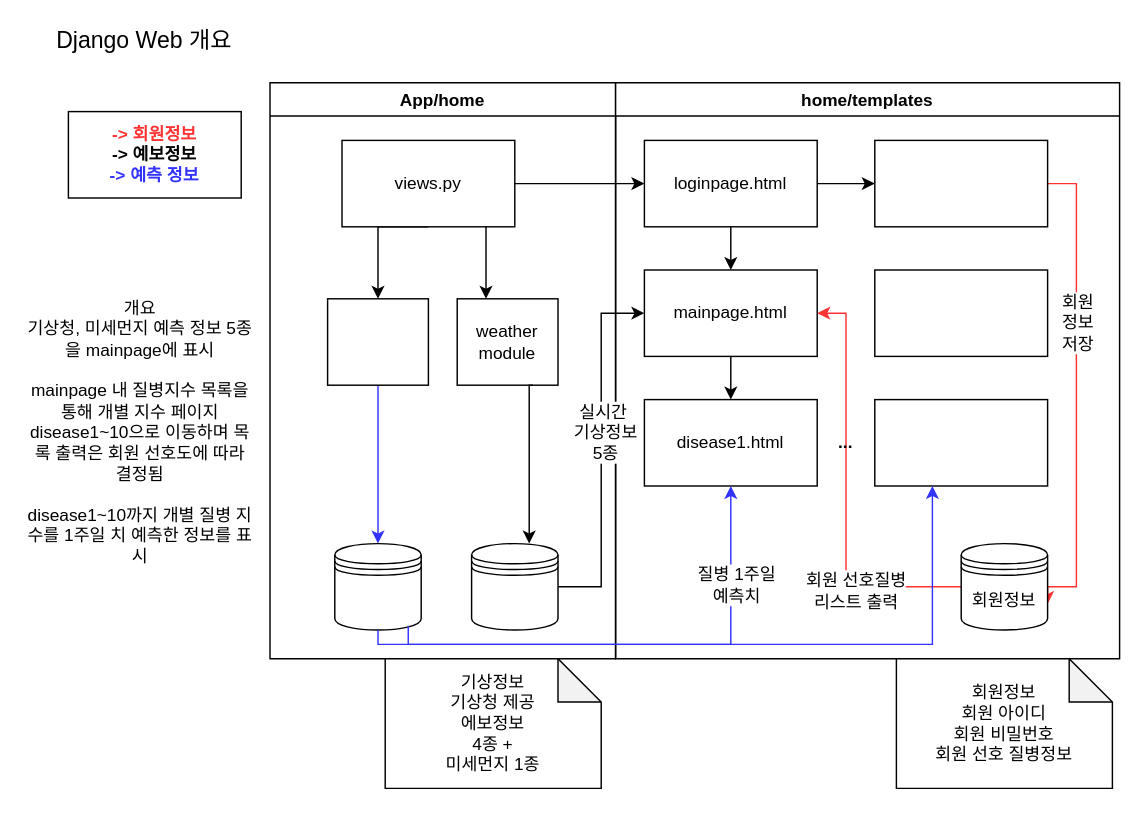
Some shapes in this 1145 by 814 pixel diagram are drawn without their labels. Here are the shapes that lost their labels. From the top down, the centre of each, then its label:
At (x=960, y=183): "singin.html".
At (x=960, y=312): "github link".
At (x=377, y=341): "prediction module".
At (x=960, y=442): "disease10.html".
At (x=377, y=586): "예측 정보".
At (x=514, y=586): "예보 정보".
